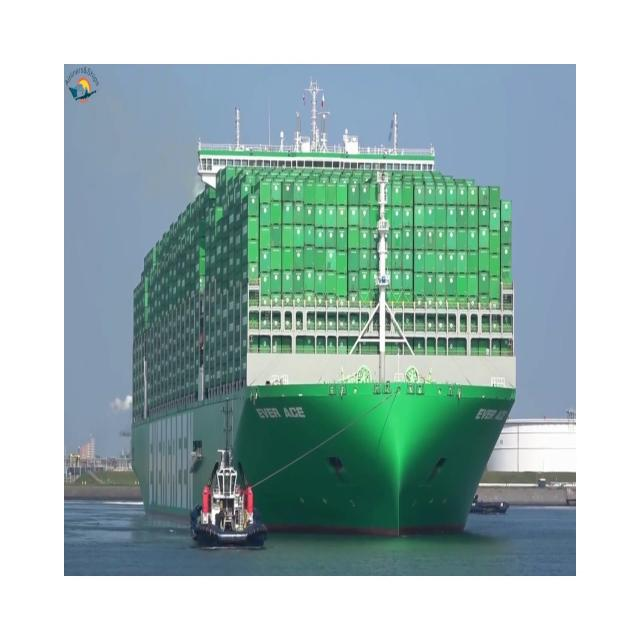OCR: (140, 410, 202, 522), (250, 392, 314, 433), (460, 392, 517, 435)
